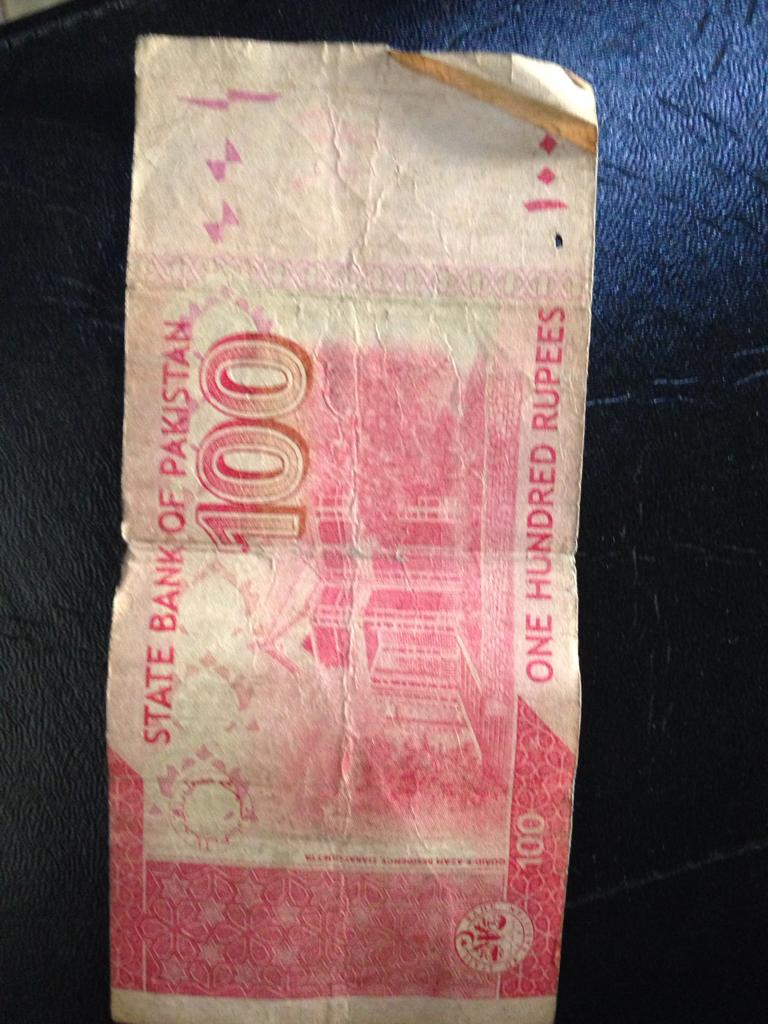100 rupee: (75, 22, 615, 1024)
